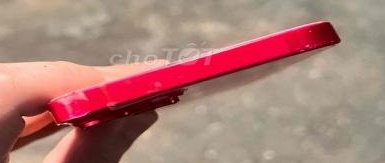scratch: (36, 86, 100, 110)
